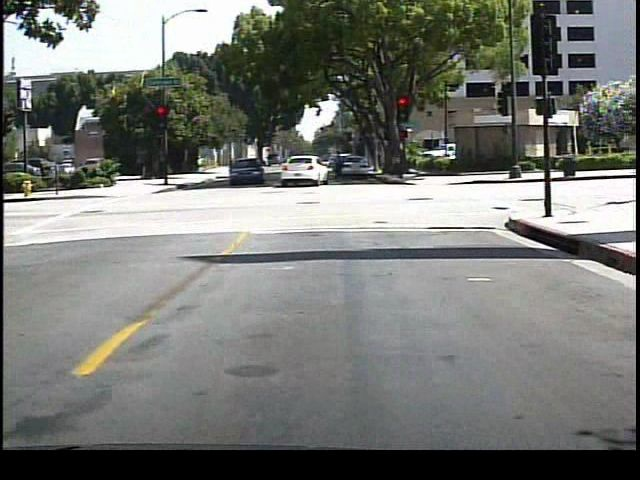person: (329, 146, 348, 185)
